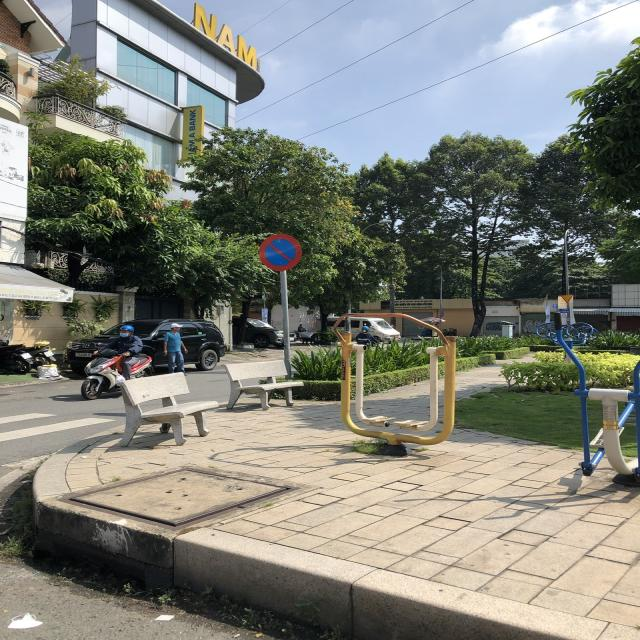Bien bao cam do xe: (254, 232, 305, 272)
